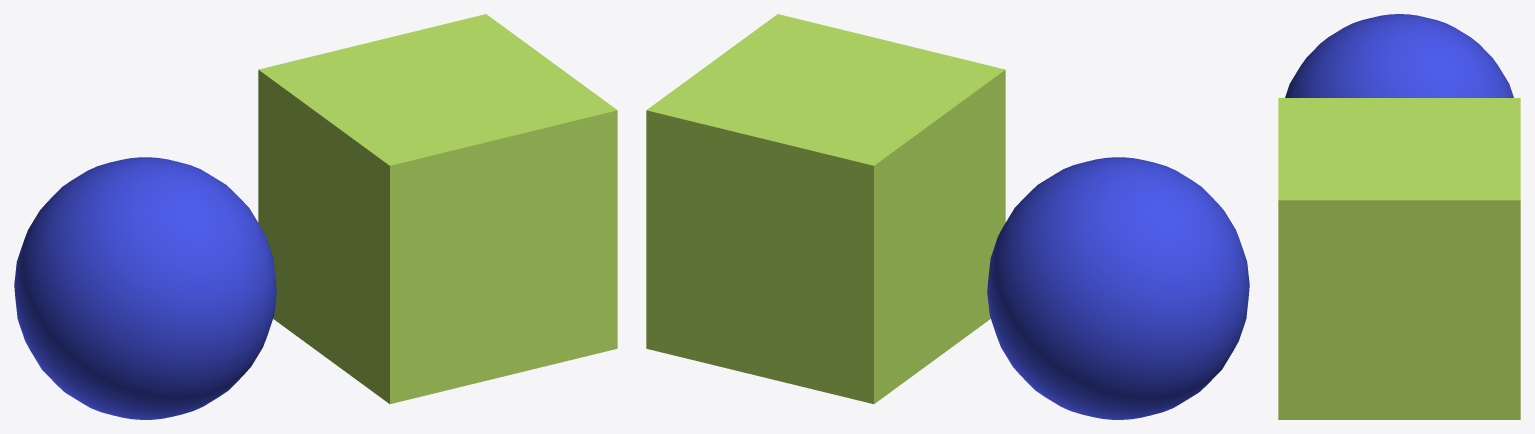
The model's file is testGLTF.gltf.
3 views of the same model, side by side, from view 1: azimuth 30°, elevation 25°; view 2: azimuth 150°, elevation 25°; view 3: azimuth 270°, elevation 25° (orthographic). The views are drawn at different scales.
Parts seen in each view (by area): view 1: Cube, Sphere; view 2: Cube, Sphere; view 3: Cube, Sphere.
Part boxes in pixels (box(x1,y1,x2,y2)): Cube: box(258, 14, 617, 403); Sphere: box(14, 157, 276, 419); Cube: box(646, 14, 1005, 403); Sphere: box(987, 157, 1249, 419); Cube: box(1278, 98, 1520, 419); Sphere: box(1285, 14, 1513, 97).
Size of the model in its own units: 4.57 by 2.07 by 2.
